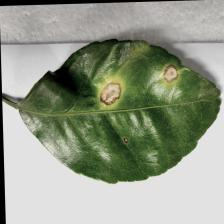canker: (84, 34, 195, 152)
